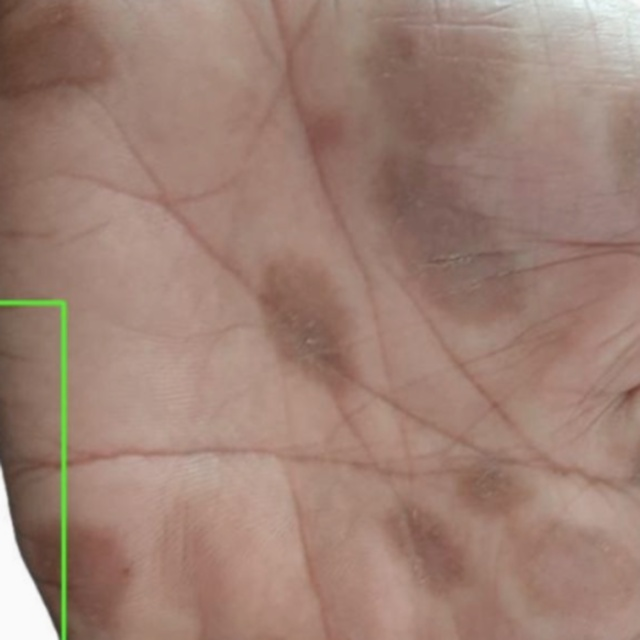Contact Dermatitis: (0, 302, 63, 639)
